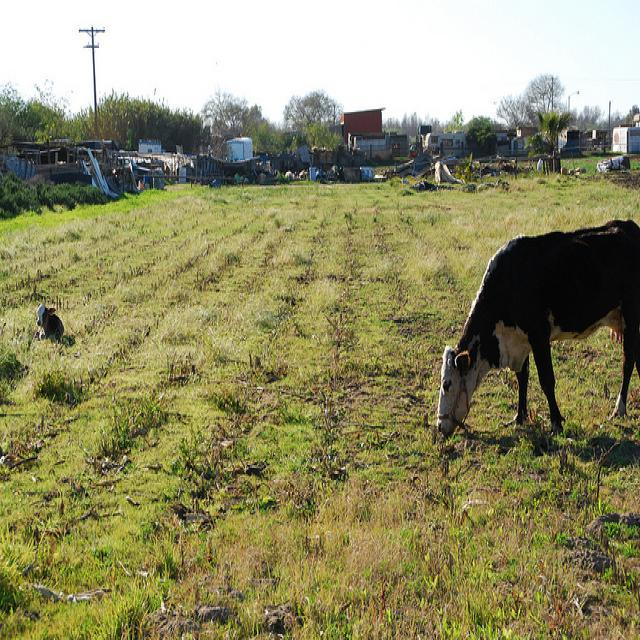cow: (432, 209, 639, 441), (34, 303, 60, 338)
